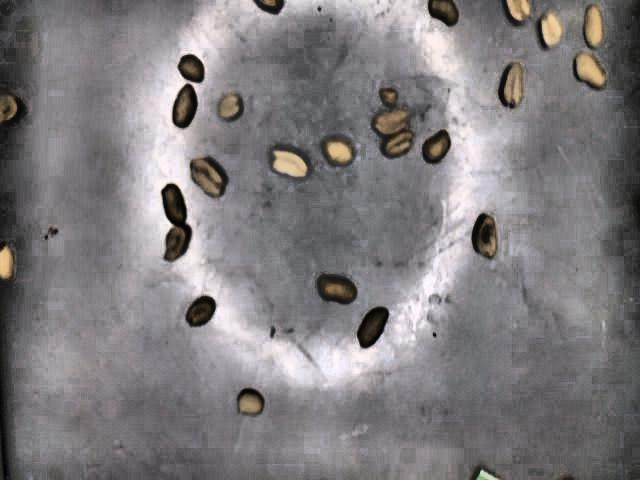Almennt: (352, 302, 393, 348), (191, 153, 227, 198), (571, 49, 609, 90), (470, 213, 502, 260), (497, 59, 525, 109), (317, 273, 359, 306), (581, 1, 609, 50), (160, 179, 189, 225), (370, 105, 411, 137), (183, 294, 219, 329), (323, 132, 356, 168), (273, 147, 310, 179), (233, 385, 267, 419), (382, 129, 415, 163), (171, 85, 197, 126), (421, 128, 453, 161), (163, 223, 190, 262), (430, 0, 464, 28), (539, 12, 563, 51), (502, 0, 535, 26), (178, 53, 206, 83), (0, 92, 22, 129), (218, 91, 241, 121), (375, 83, 401, 107), (0, 242, 13, 286), (253, 0, 290, 15)
